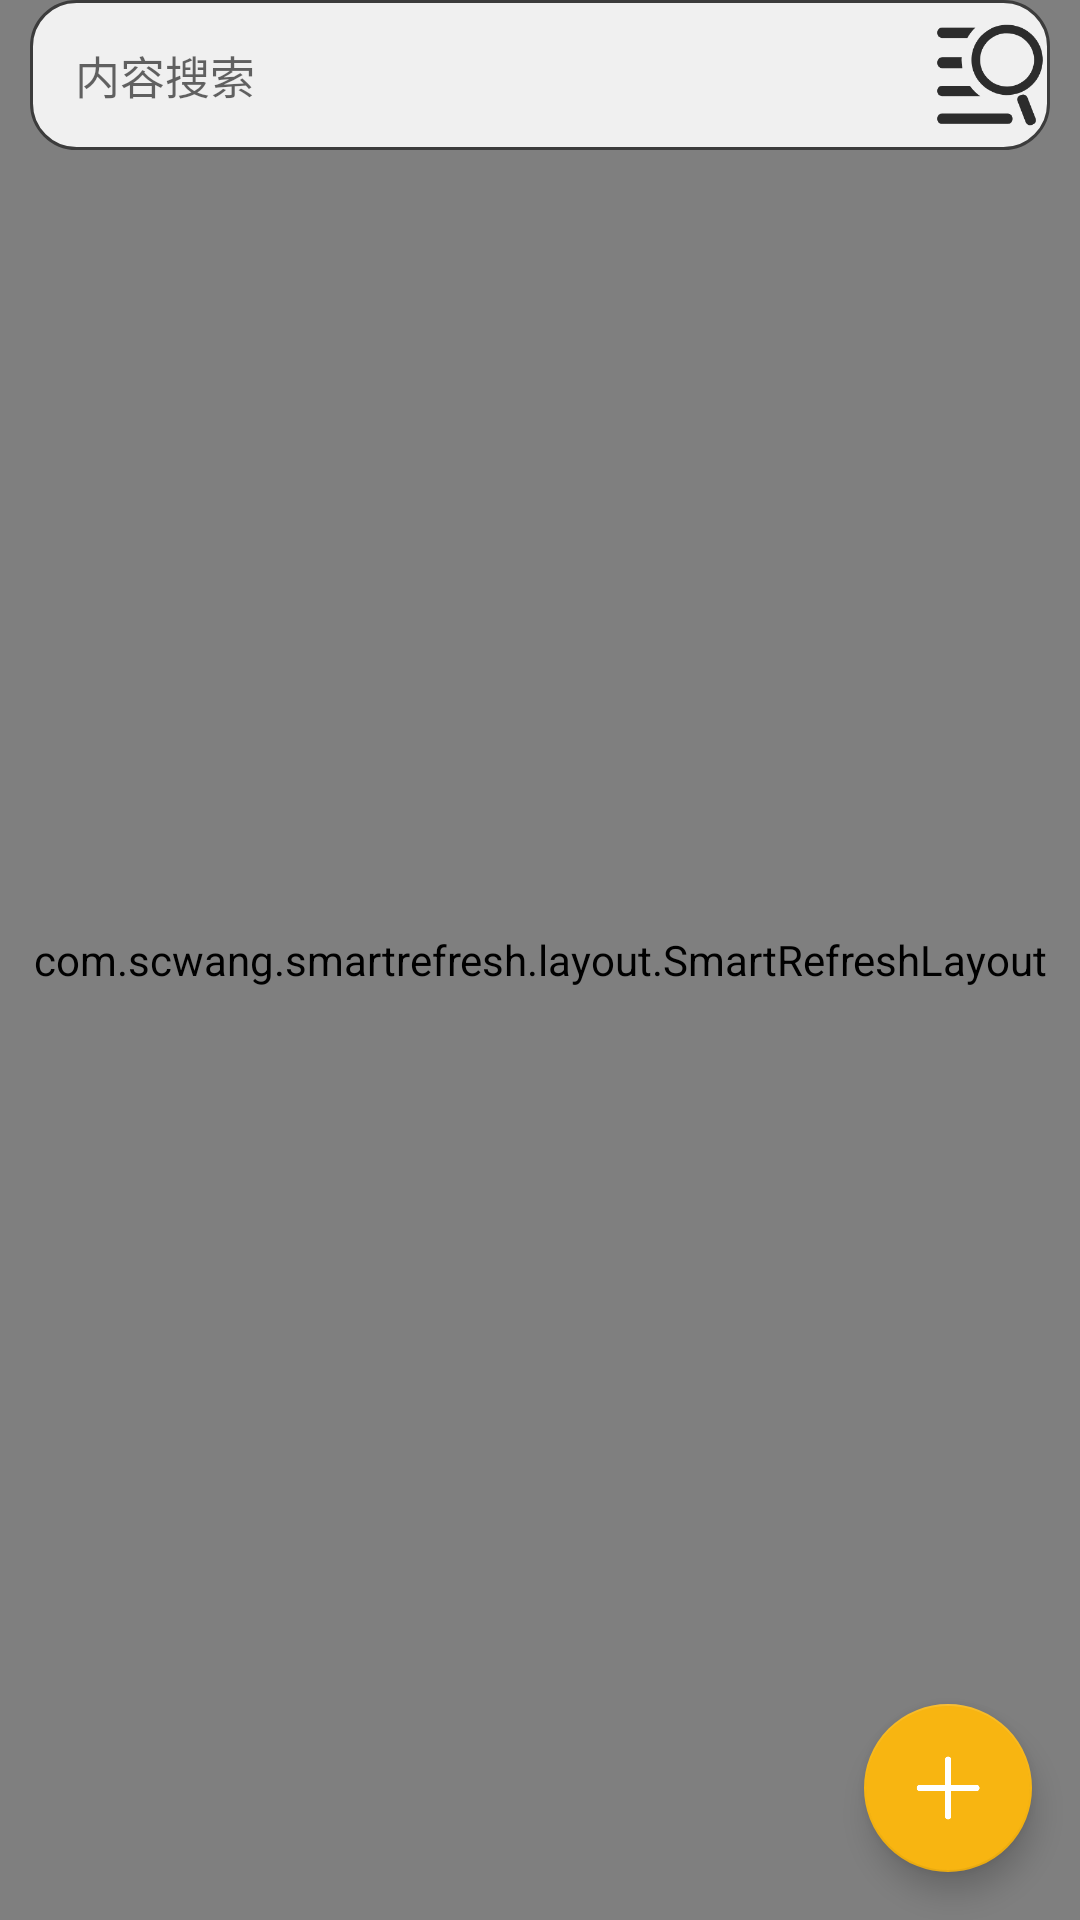

Icons on this 1080×1920 Android screen, each with the point to tap as point (x, y):
findmessage: point (990, 75)
jiahao: point (948, 1788)
